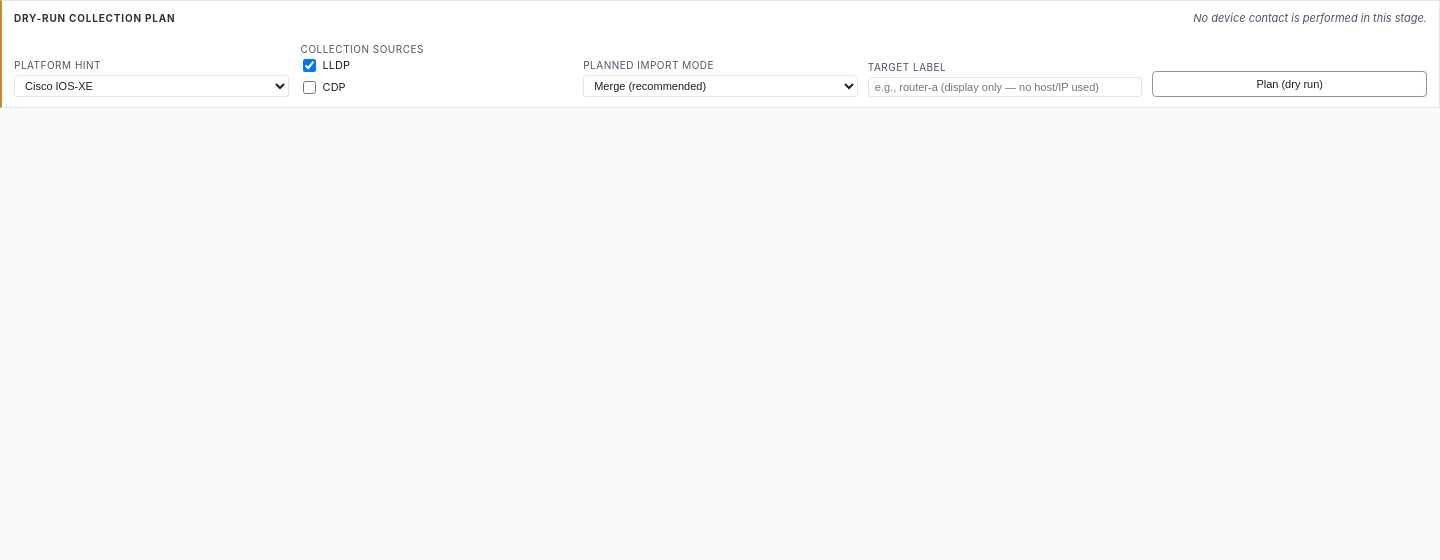
Test: LiveCollectionDryRunPanel — surface › renders replace-mode warning when planner returns it
The image size is (1440, 560).
Select "Replace (caution)" in the dropdown with test id "tm-live-collection-import-mode" at (720,86), box 583,75 -> 858,97
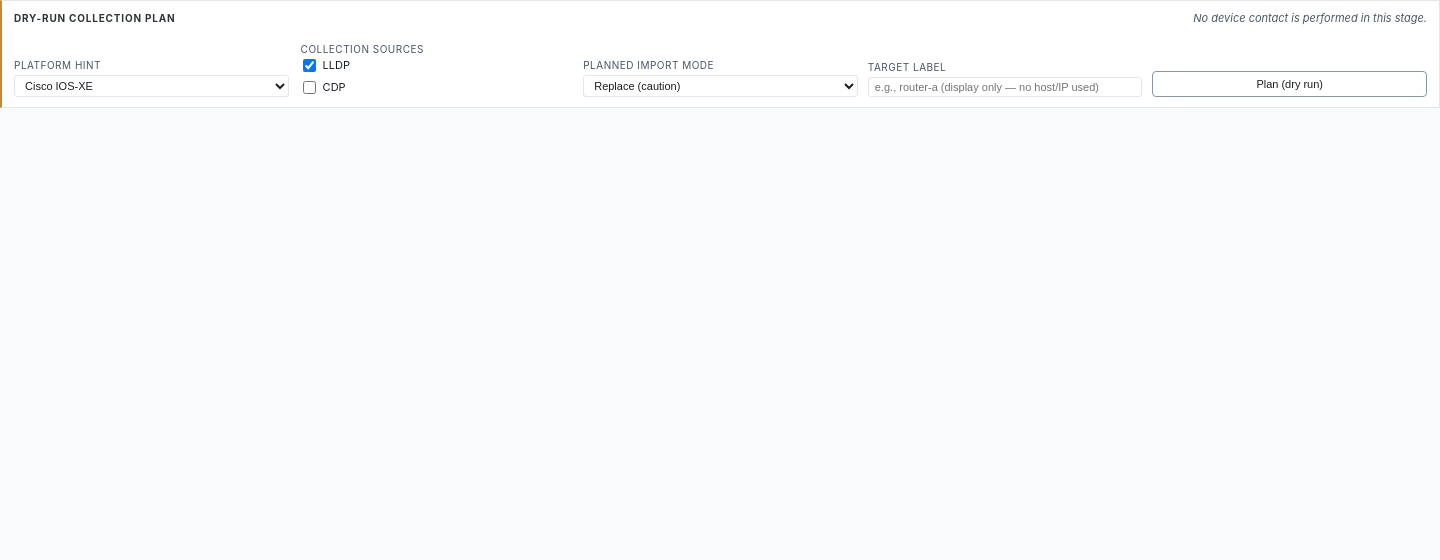
Click the button with test id "tm-live-collection-plan-button" at (1290,84), box 1152,71 -> 1427,97
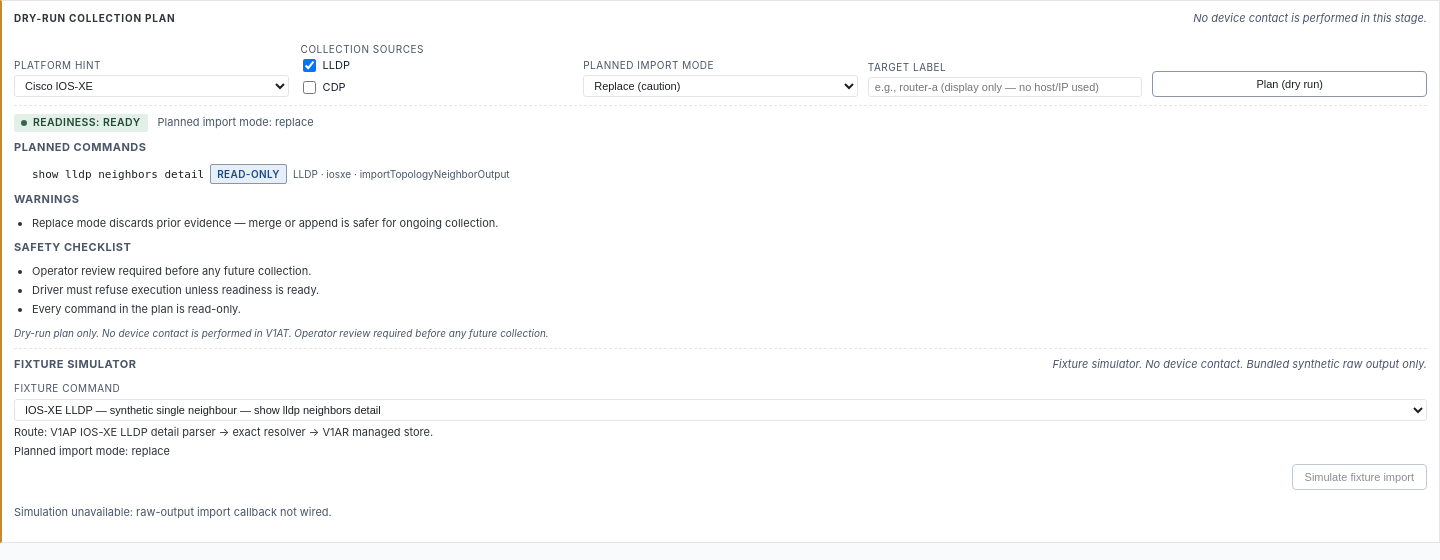
expect the list item with test id "tm-live-collection-warning-replace_import_mode_selected" is shown: met, box 32,216 -> 498,230
expect the text with test id "tm-live-collection-result-import-mode" shows "replace": met, box 275,115 -> 314,129
